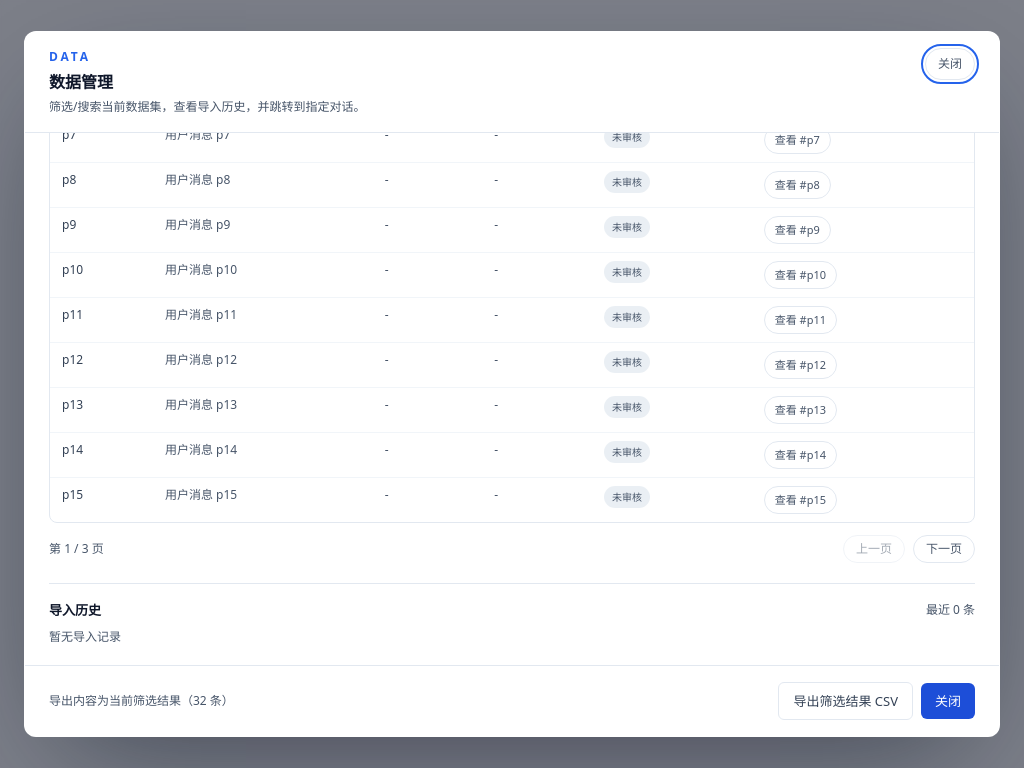
Scenario: DataManagerPanel 补充 · 分页 › 32 条 → 首页 15 行、第 1 / 3 页、上一页禁用；下一页/上一页页码与行数正确
(page scrolled)
Expected: the text "第 1 / 3 页" is shown, [49,540,104,558]
Expected: the button "上一页" is disabled, [843,535,905,563]
What coordinates should you click on to do the following:
click the button "下一页"
I would click on:
 (944, 549)
Its box is [913,535,975,563].
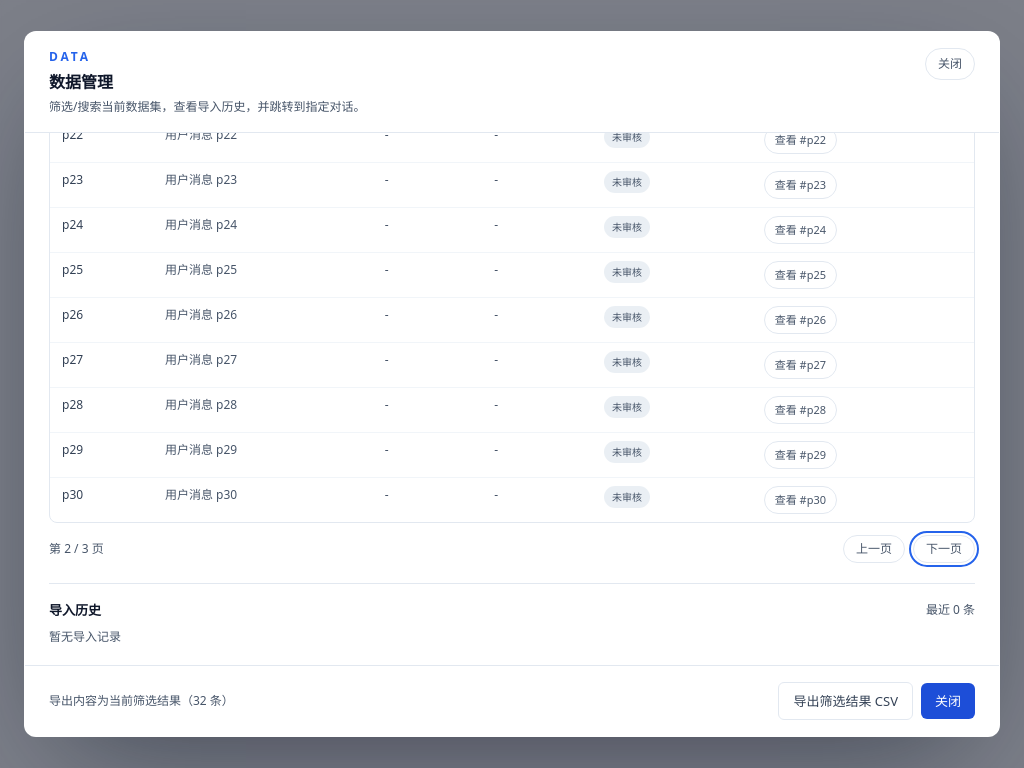
Now the text "第 2 / 3 页" is shown, box [49,540,104,558]
Now the button "上一页" is enabled, box [843,535,905,563]
What coordinates should you click on to do the following:
click the button "下一页"
I would click on:
 (944, 549)
Its box is [913,535,975,563].
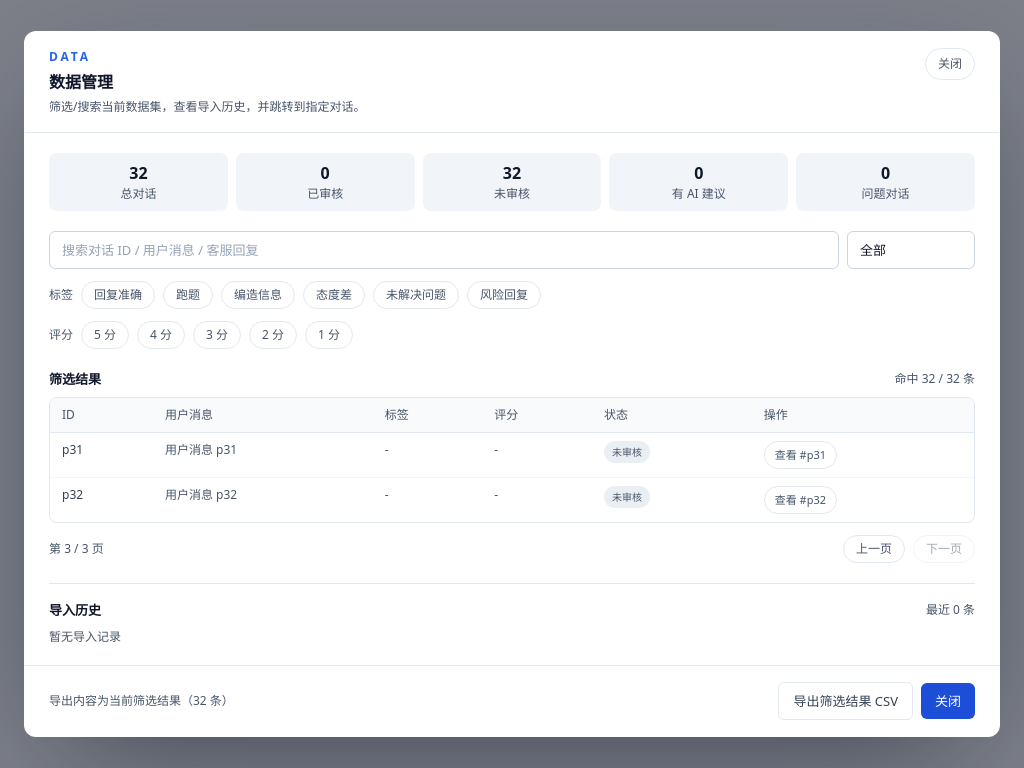
Now the text "第 3 / 3 页" is shown, box [49,540,104,558]
Now the button "下一页" is disabled, box [913,535,975,563]
What coordinates should you click on to do the following:
click the button "上一页"
I would click on:
 (874, 549)
Its box is [843,535,905,563].
(page scrolled)
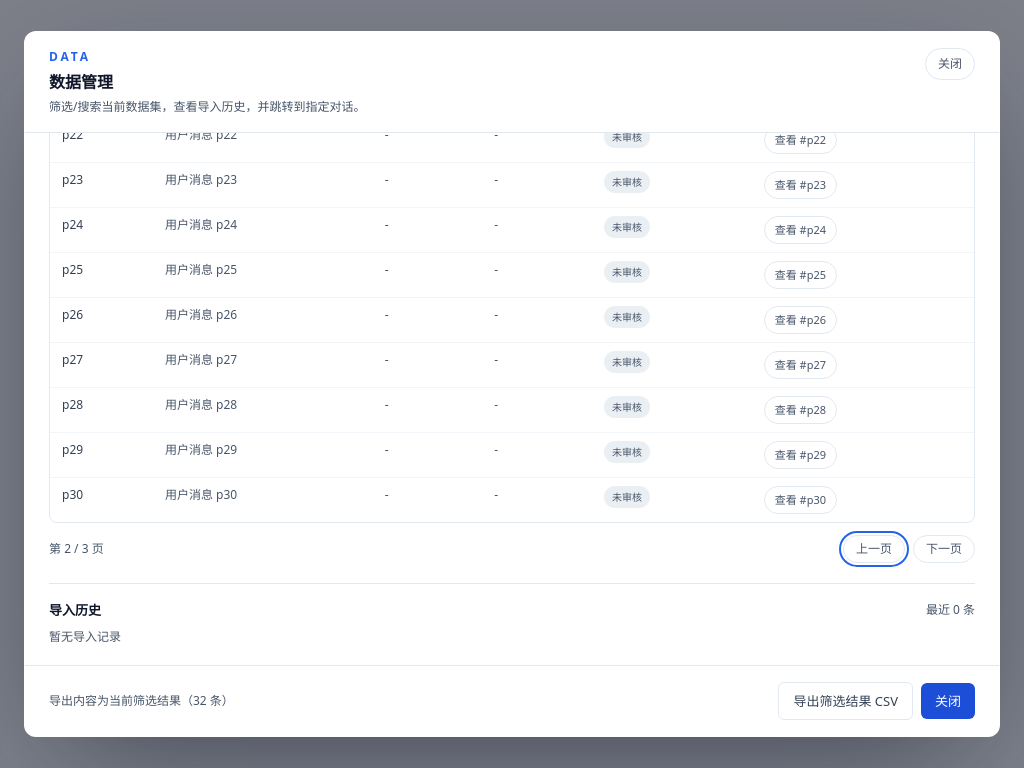
Now the text "第 2 / 3 页" is shown, box [49,540,104,558]
